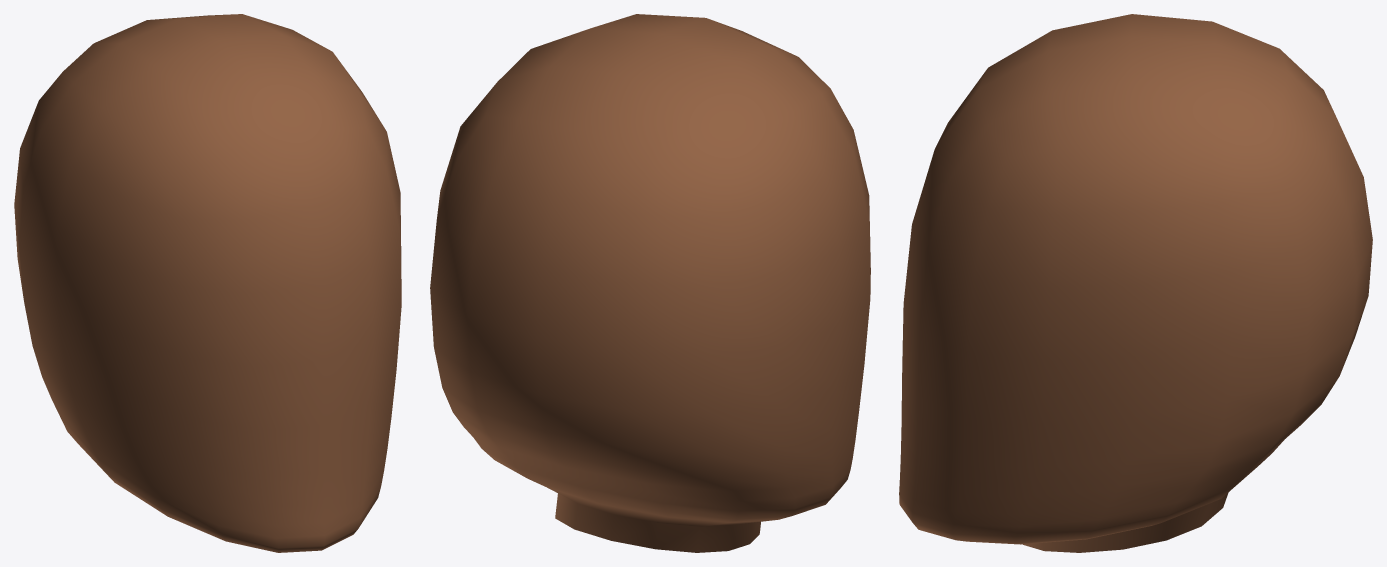
Rendered from head.obj.
3 renders of one model, left to right at view 1: azimuth 30°, elevation 25°; view 2: azimuth 150°, elevation 25°; view 3: azimuth 270°, elevation 25°, orthographic. The views are drawn at different scales.
Parts seen in each view (by area): view 1: Cube.006_Cube.007; view 2: Cube.006_Cube.007; view 3: Cube.006_Cube.007.
Boxes of the visible parts, box(x1,y1,x2,y2) form: Cube.006_Cube.007: box(14, 14, 401, 552); Cube.006_Cube.007: box(430, 14, 870, 552); Cube.006_Cube.007: box(899, 14, 1372, 552).
Bounding box in the file's own units: 0.4559 × 0.622 × 0.5371.
